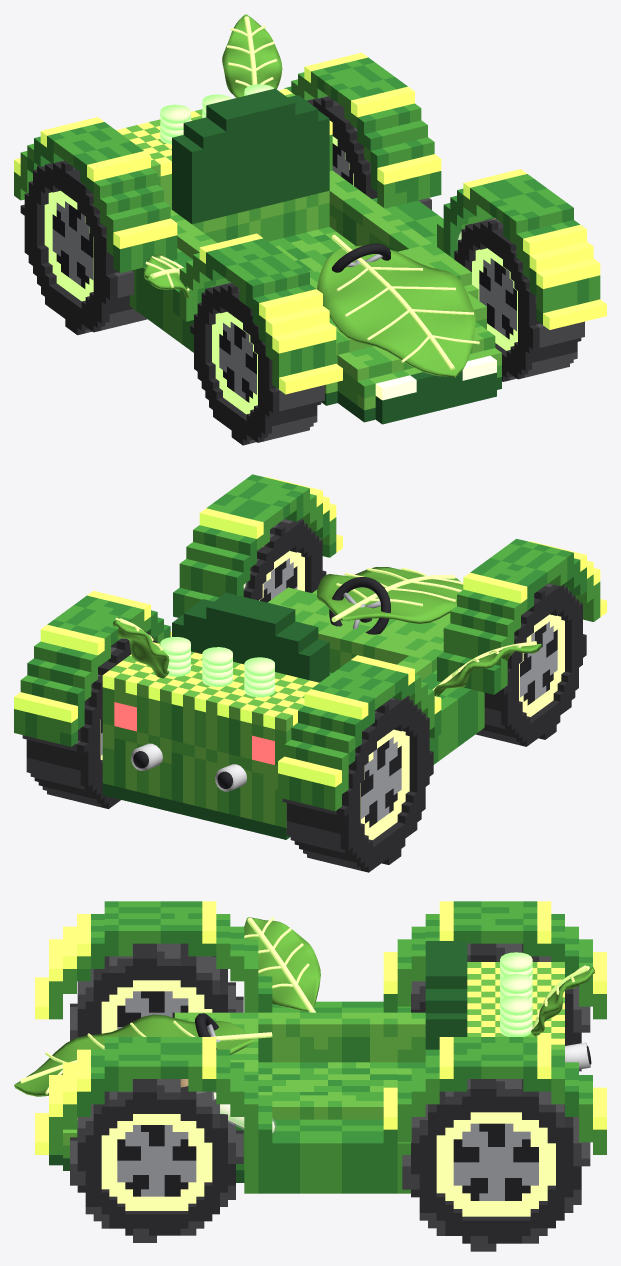
Rendered from K01_LeafRacer.glb.
The picture shows the model from 3 angles, top to bottom: view 1: azimuth 30°, elevation 25°; view 2: azimuth 150°, elevation 25°; view 3: azimuth 270°, elevation 25°; orthographic projection. The views are drawn at different scales.
Visible parts, largest first — view 1: K01_LeafRacer_Mesh, K01_HoodLeaf_Mesh, K01_Wheel_RL, K01_Wheel_FL, K01_Wheel_FR, K01_TailLeaf_Mesh, K01_Wheel_RR, K01_SideLeaf_Mesh; view 2: K01_LeafRacer_Mesh, K01_Wheel_RL, K01_Wheel_FL, K01_Wheel_RR, K01_HoodLeaf_Mesh, K01_Wheel_FR, K01_TailLeaf_Mesh, K01_SideLeaf_Mesh; view 3: K01_LeafRacer_Mesh, K01_Wheel_RR, K01_Wheel_FR, K01_Wheel_FL, K01_SideLeaf_Mesh, K01_HoodLeaf_Mesh, K01_Wheel_RL, K01_TailLeaf_Mesh.
Part boxes in pixels (<box>): K01_LeafRacer_Mesh: <box>14,52,606,424</box>; K01_HoodLeaf_Mesh: <box>317,235,479,377</box>; K01_Wheel_RL: <box>20,160,147,335</box>; K01_Wheel_FL: <box>190,282,324,445</box>; K01_Wheel_FR: <box>454,218,584,381</box>; K01_TailLeaf_Mesh: <box>222,14,282,97</box>; K01_Wheel_RR: <box>306,96,431,209</box>; K01_SideLeaf_Mesh: <box>144,254,190,298</box>; K01_LeafRacer_Mesh: <box>14,474,606,839</box>; K01_Wheel_RL: <box>282,695,433,872</box>; K01_Wheel_FL: <box>475,583,586,746</box>; K01_Wheel_RR: <box>22,631,157,808</box>; K01_HoodLeaf_Mesh: <box>317,567,463,623</box>; K01_Wheel_FR: <box>243,519,326,602</box>; K01_TailLeaf_Mesh: <box>113,618,169,678</box>; K01_SideLeaf_Mesh: <box>432,641,541,696</box>; K01_LeafRacer_Mesh: <box>35,901,606,1193</box>; K01_Wheel_RR: <box>402,1079,590,1251</box>; K01_Wheel_FR: <box>70,1079,243,1242</box>; K01_Wheel_FL: <box>70,943,243,1040</box>; K01_SideLeaf_Mesh: <box>244,917,320,1012</box>; K01_HoodLeaf_Mesh: <box>14,1014,272,1096</box>; K01_Wheel_RL: <box>411,943,590,1071</box>; K01_TailLeaf_Mesh: <box>531,965,594,1036</box>.
Bounding box in the file's own units: 1.87 × 1.12 × 2.55.
